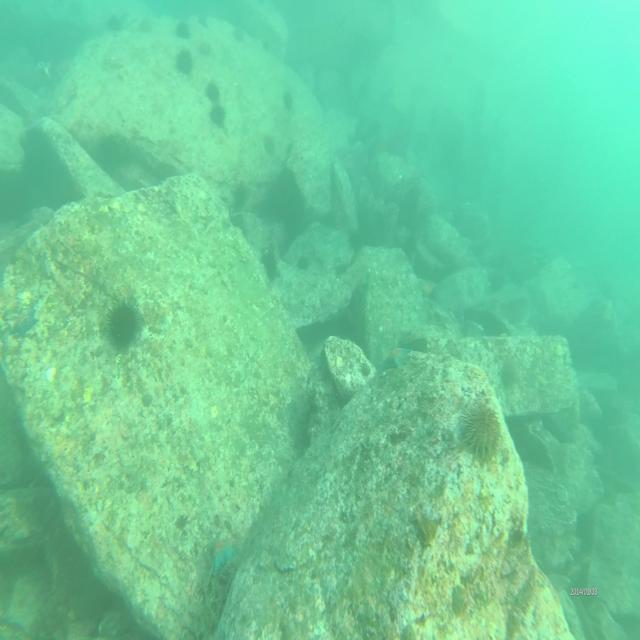echinus: (462, 396, 501, 463), (106, 295, 142, 351), (259, 247, 279, 287), (174, 14, 194, 42), (203, 76, 223, 103), (176, 47, 194, 76), (105, 11, 124, 37), (209, 105, 228, 126), (264, 126, 276, 158), (229, 25, 245, 46), (283, 85, 294, 113), (138, 16, 152, 31)
starfish: (210, 534, 244, 577), (8, 304, 41, 338), (379, 344, 412, 372), (416, 275, 440, 302)
